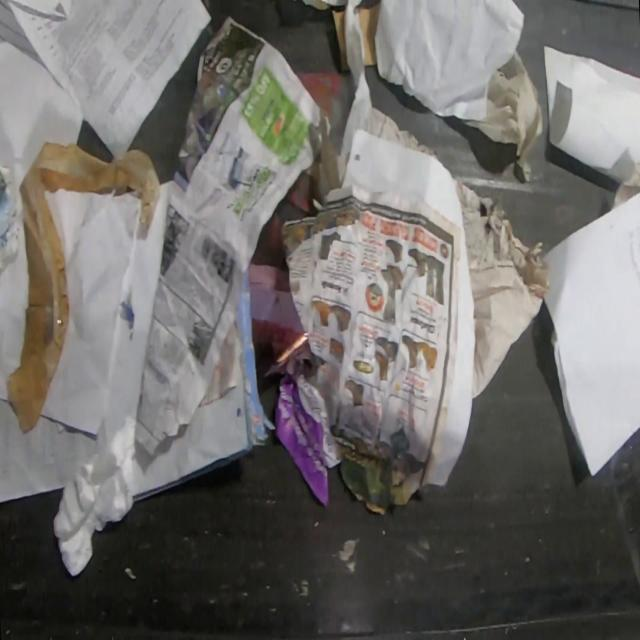cardboard: (331, 8, 351, 73)
rigid_plastic: (295, 69, 357, 156), (283, 168, 315, 215)
soft_plastic: (6, 138, 162, 434)
